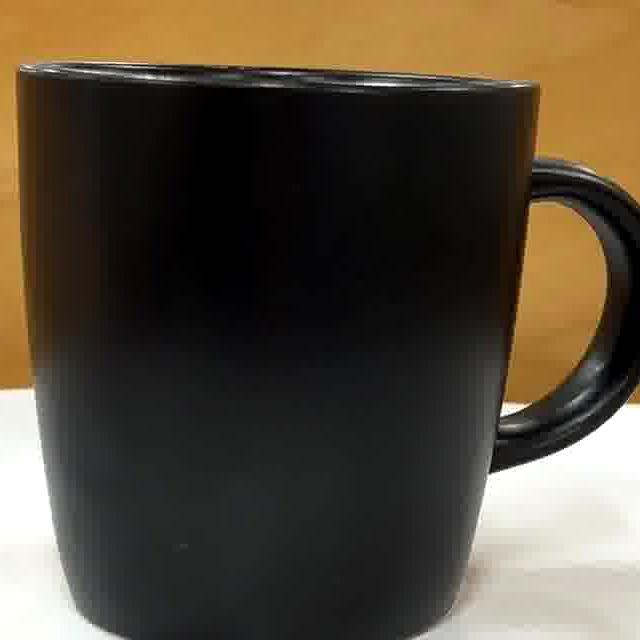cup: (26, 66, 640, 640)
